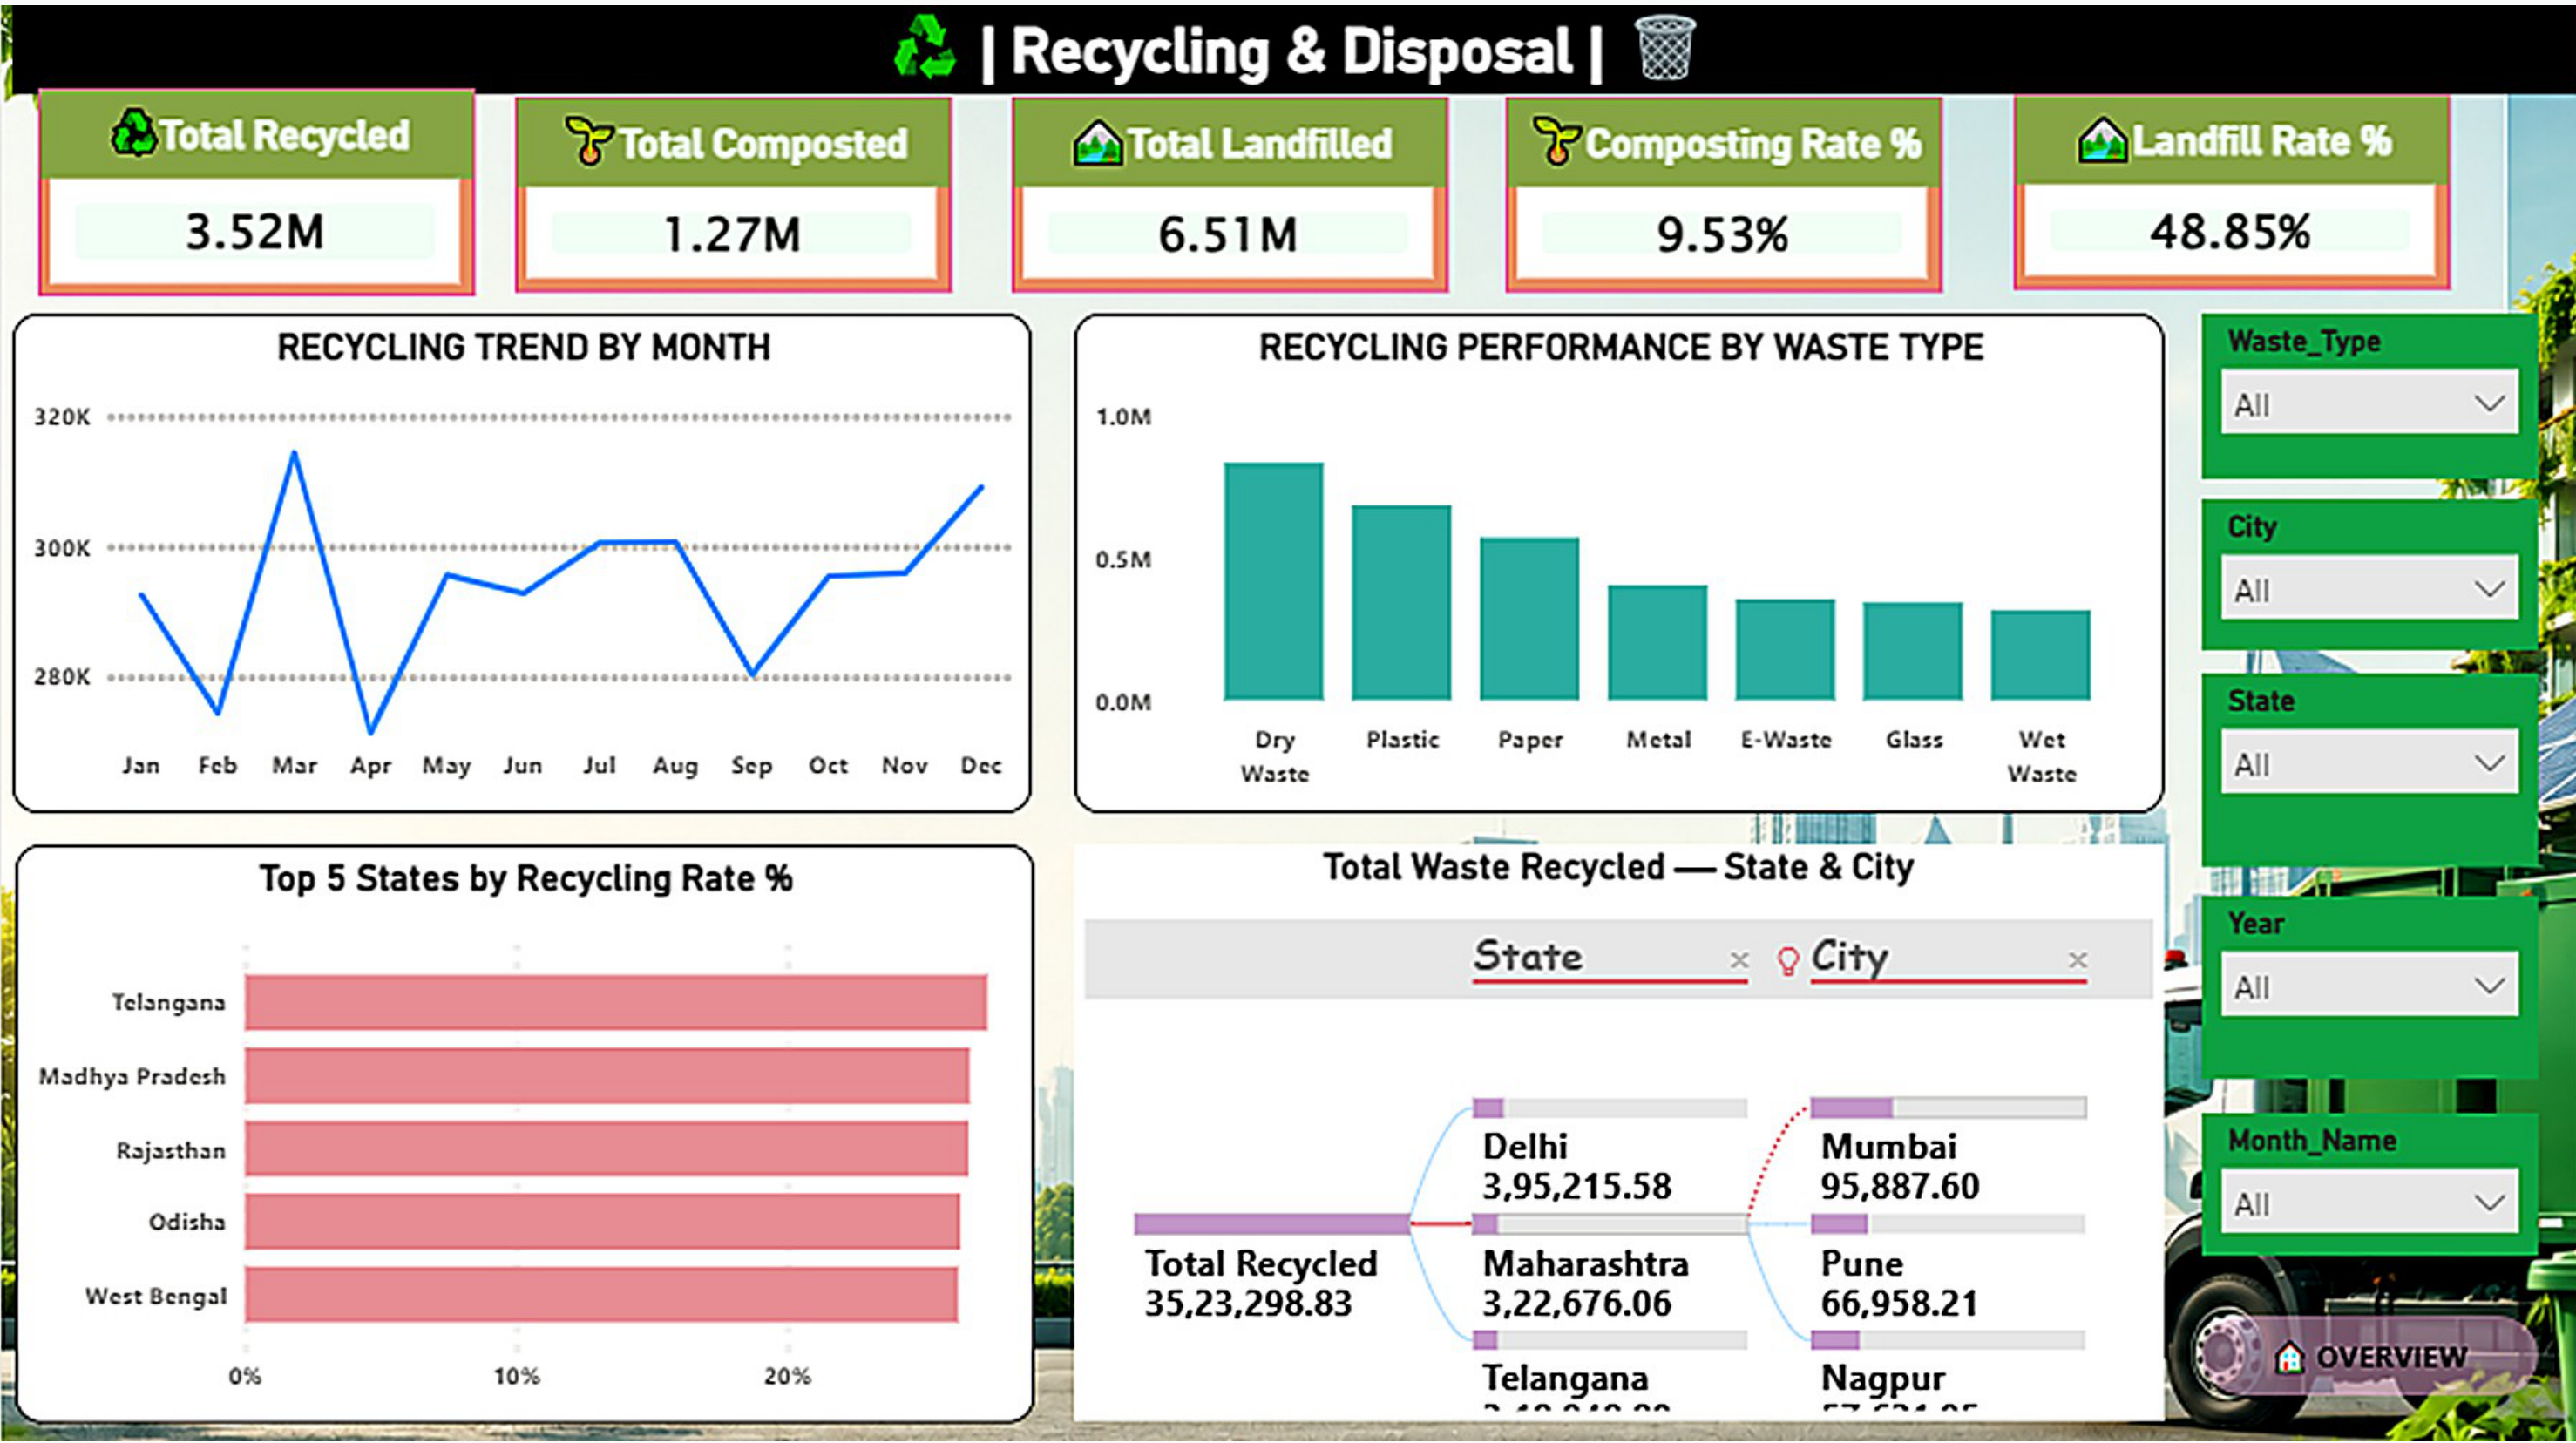

The page's visual inventory and layout, read from the dashboard file:
{"tool":"powerbi","page":{"name":"♻️ Recycling & Disposal","canvas":[1280,720],"ordinal":1},"visuals":[{"type":"shape","title":"♻️ | Recycling & Disposal | 🗑️","box":[5.5,0,1274.5,46.8],"z":0},{"type":"cardVisual","title":"♻️Total Recycled","fields":{"Data":["dataset_30000_rows.Total Recycled"]},"box":[18.5,44.6,216.9,103.1],"z":1000},{"type":"slicer","fields":{"Values":["dataset_30000_rows.Year"]},"box":[1092.8,445,167.2,90.7],"z":2000},{"type":"slicer","fields":{"Values":["dataset_30000_rows.State"]},"box":[1092.8,334.5,167.2,96.4],"z":3000},{"type":"slicer","fields":{"Values":["dataset_30000_rows.City"]},"box":[1092.8,248,167.2,75.1],"z":4000},{"type":"slicer","fields":{"Values":["dataset_30000_rows.Waste_Type"]},"box":[1092.8,155.9,167.2,82.2],"z":5000},{"type":"cardVisual","title":"🌱Total Composted","fields":{"Data":["dataset_30000_rows.Total Composted"]},"box":[255.4,47.7,216.9,96.9],"z":6000},{"type":"cardVisual","title":"🏞️Total Landfilled","fields":{"Data":["dataset_30000_rows.Total Landfilled"]},"box":[501.5,47.7,216.9,96.9],"z":7000},{"type":"cardVisual","title":"🌱Composting Rate %","fields":{"Data":["dataset_30000_rows.Composting Rate %"]},"box":[746.9,48.2,216.9,96.9],"z":8000},{"type":"cardVisual","title":"🏞️Landfill Rate %","fields":{"Data":["dataset_30000_rows.Landfill Rate %"]},"box":[999.2,46.8,216.9,96.9],"z":9000},{"type":"lineChart","title":"RECYCLING TREND BY MONTH","fields":{"Y":["dataset_30000_rows.Total Recycled"],"Category":["dataset_30000_rows.Month_Name"]},"box":[5.7,155.9,506.2,247.7],"z":10000},{"type":"clusteredColumnChart","title":"RECYCLING PERFORMANCE BY WASTE TYPE","fields":{"Category":["dataset_30000_rows.Waste_Type"],"Y":["dataset_30000_rows.Total Recycled"]},"box":[532.9,155.9,541.4,248],"z":11000},{"type":"barChart","title":"Top 5 States by Recycling Rate %","fields":{"Category":["dataset_30000_rows.State"],"Y":["dataset_30000_rows.Recycling Rate %"]},"box":[6.9,419.8,505.7,286.8],"z":12000},{"type":"decompositionTreeVisual","title":"Total Waste Recycled — State & City","fields":{"ExplainBy":["dataset_30000_rows.State","dataset_30000_rows.City"],"Analyze":["dataset_30000_rows.Total Recycled"]},"box":[532.2,419.4,540.9,286.4],"z":13000},{"type":"actionButton","title":"Overview","box":[1092.8,653.4,167.2,39.7],"z":14000},{"type":"slicer","fields":{"Values":["Indian Urban Waste Recycling Analytics.Month_Name"]},"box":[1092.8,552.8,167.2,70.9],"z":15000}]}

Visuals, with their boxes in screenshot pixels (x1, y1, x2, y2), scaled from the page's 1280x720 canvas onto the 2576x1443 screenshot:
"♻️ | Recycling & Disposal | 🗑️" shape: box(11, 0, 2575, 94)
"♻️Total Recycled" cardVisual: box(37, 90, 474, 296)
slicer - dataset_30000_rows.Year: box(2200, 891, 2536, 1074)
slicer - dataset_30000_rows.State: box(2200, 670, 2536, 864)
slicer - dataset_30000_rows.City: box(2200, 497, 2536, 647)
slicer - dataset_30000_rows.Waste_Type: box(2200, 313, 2536, 478)
"🌱Total Composted" cardVisual: box(514, 96, 951, 290)
"🏞️Total Landfilled" cardVisual: box(1009, 96, 1446, 290)
"🌱Composting Rate %" cardVisual: box(1503, 97, 1940, 291)
"🏞️Landfill Rate %" cardVisual: box(2011, 94, 2447, 288)
"RECYCLING TREND BY MONTH" lineChart: box(11, 313, 1030, 809)
"RECYCLING PERFORMANCE BY WASTE TYPE" clusteredColumnChart: box(1073, 313, 2162, 810)
"Top 5 States by Recycling Rate %" barChart: box(14, 842, 1032, 1416)
"Total Waste Recycled — State & City" decompositionTreeVisual: box(1071, 841, 2159, 1414)
"Overview" actionButton: box(2200, 1310, 2536, 1389)
slicer - Indian Urban Waste Recycling Analytics.Month_Name: box(2200, 1108, 2536, 1250)
